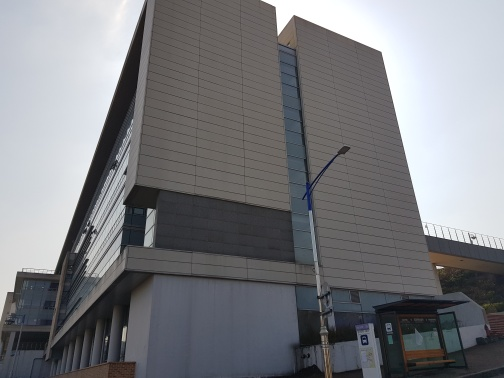Engineering College Building 4: (137, 2, 428, 367), (152, 5, 283, 359), (37, 71, 137, 377), (25, 252, 133, 373)
